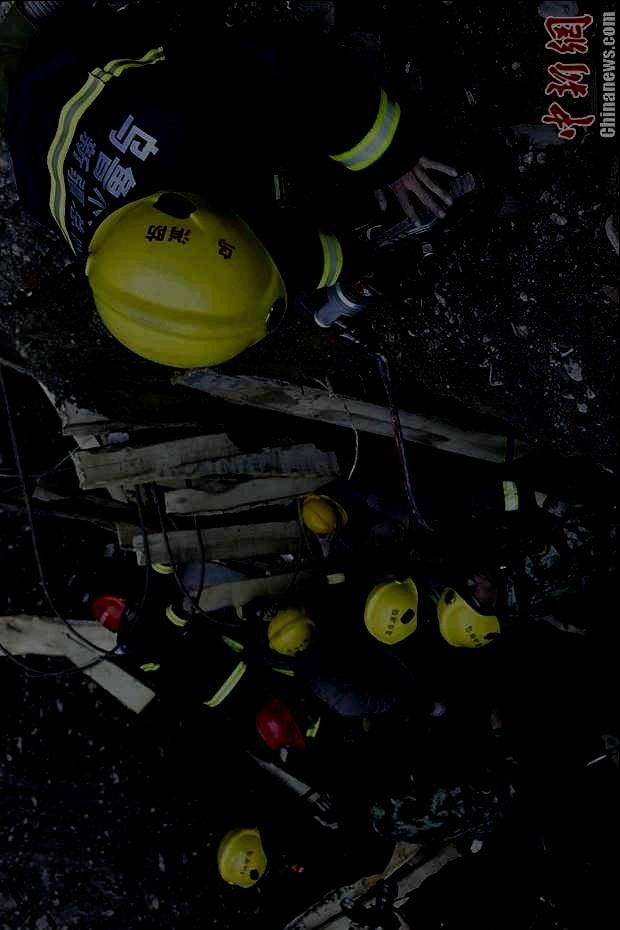helmet: (82, 187, 288, 370), (437, 569, 505, 649), (363, 577, 418, 645), (254, 695, 321, 748), (212, 825, 268, 888), (267, 607, 317, 657), (297, 493, 348, 535), (91, 593, 135, 634)
